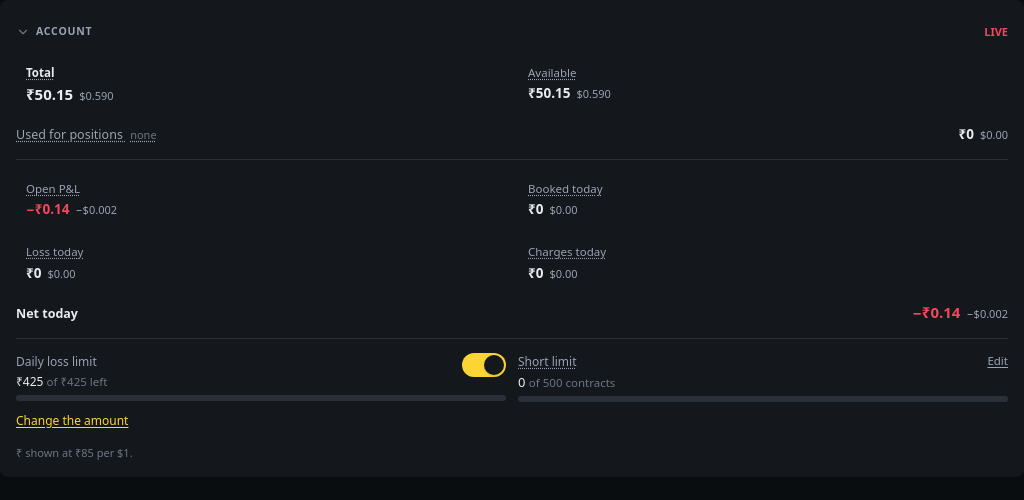
Test: the short cap, visible before it refuses › refuses a cap that is not a whole number of contracts, without asking the server
The image size is (1024, 500).
Click the button "Edit" at (998, 361), box [987,347,1008,375]
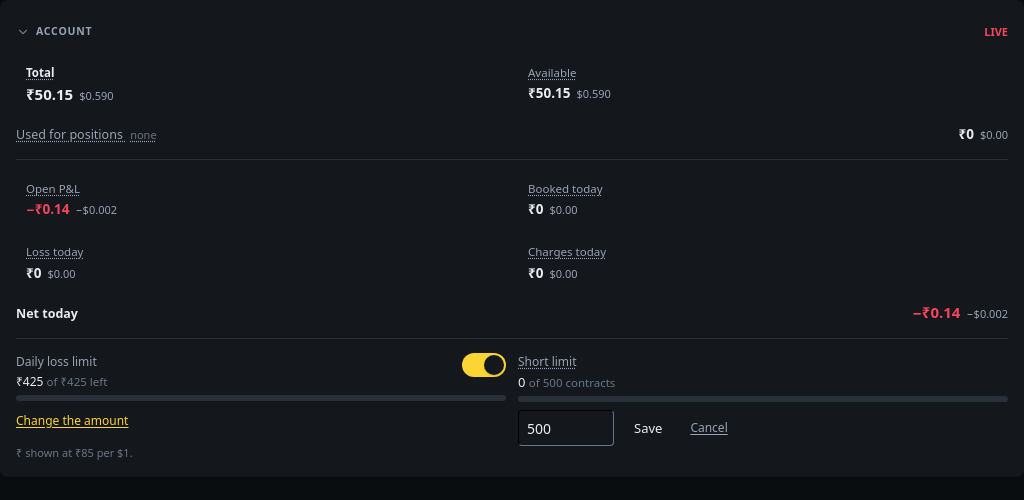
Replace the text in the number field named "most contracts short" with "2.5" at (566, 428), box [518,410,614,446]
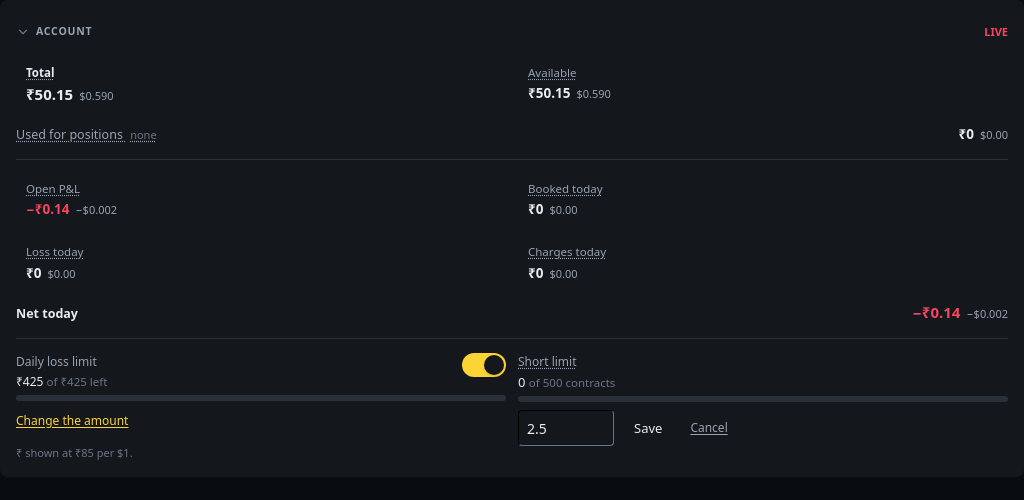
Click the button "Save" at (648, 428), box [622,410,674,446]
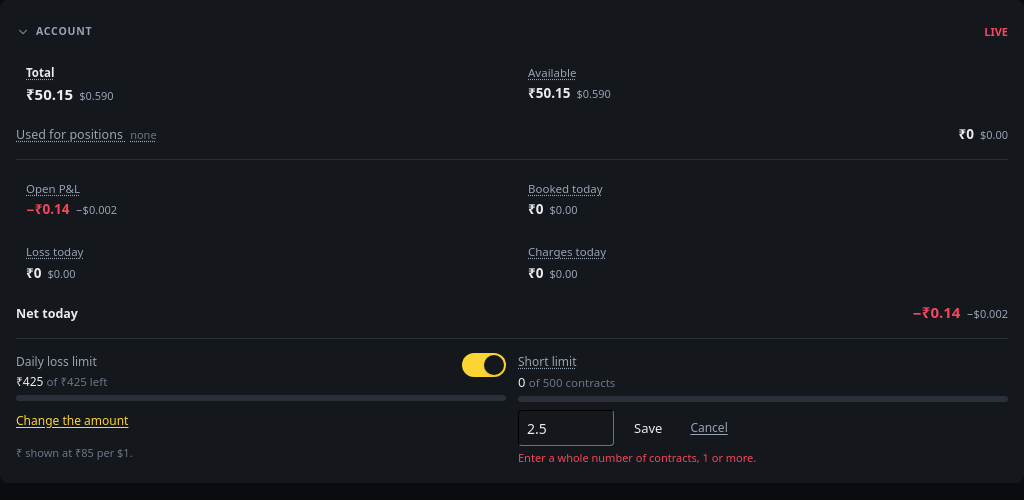
Result: the text "Enter a whole number of contracts, 1 or more." is shown at [518,450,756,465]
